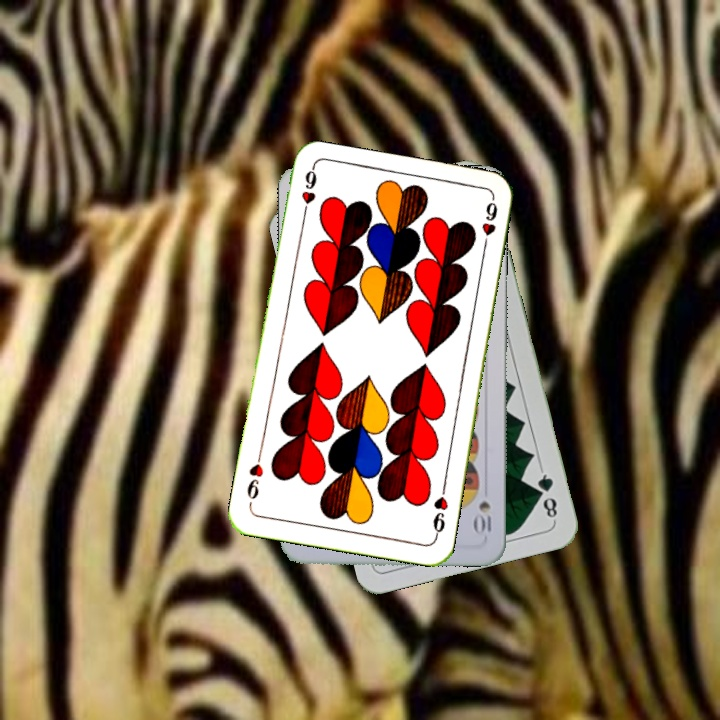G8: (533, 465, 560, 524)
H9: (429, 482, 451, 541), (297, 165, 319, 224)
S10: (472, 497, 493, 537)
